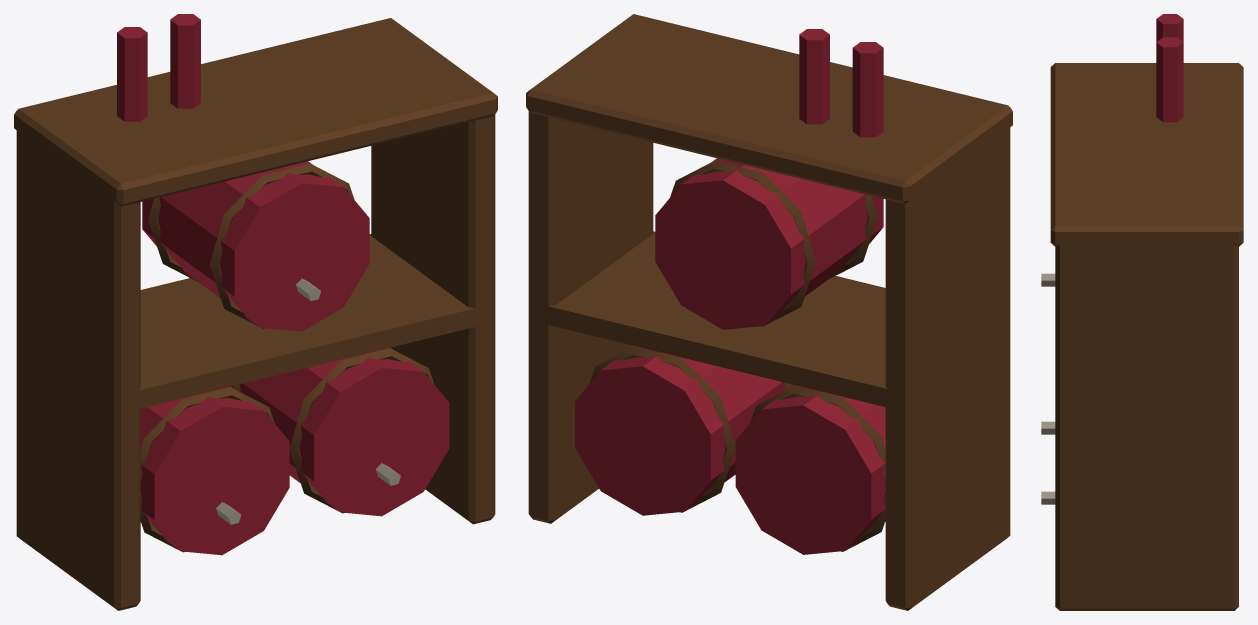
File: PR_Station_Sarap_T1.fbx
3 views of the same model, side by side, from view 1: azimuth 30°, elevation 25°; view 2: azimuth 150°, elevation 25°; view 3: azimuth 270°, elevation 25° (orthographic). The views are drawn at different scales.
Parts seen in each view (by area): view 1: PR_Station_Sarap_T1; view 2: PR_Station_Sarap_T1; view 3: PR_Station_Sarap_T1.
Boxes of the visible parts, box(x1,y1,x2,y2) form: PR_Station_Sarap_T1: box(14, 14, 497, 610); PR_Station_Sarap_T1: box(526, 14, 1012, 610); PR_Station_Sarap_T1: box(1041, 14, 1243, 610).
Bounding box in the file's own units: 0.86 × 1.11 × 0.44.
1 material, 1 textured.
